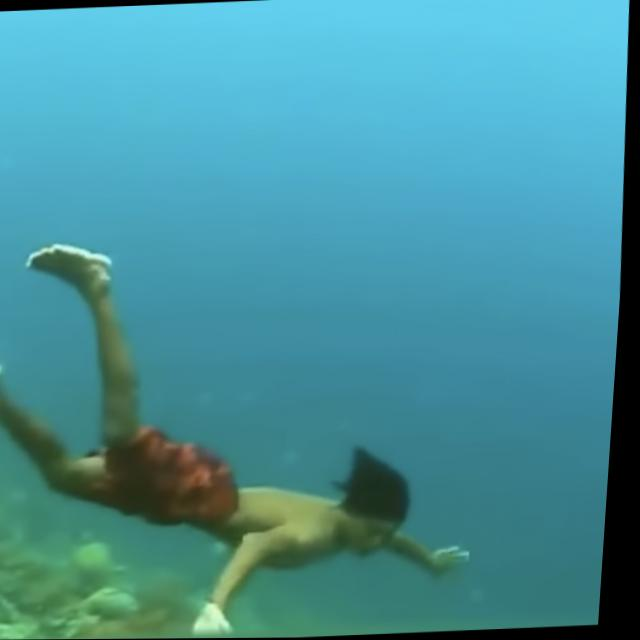human: (0, 212, 503, 640)
